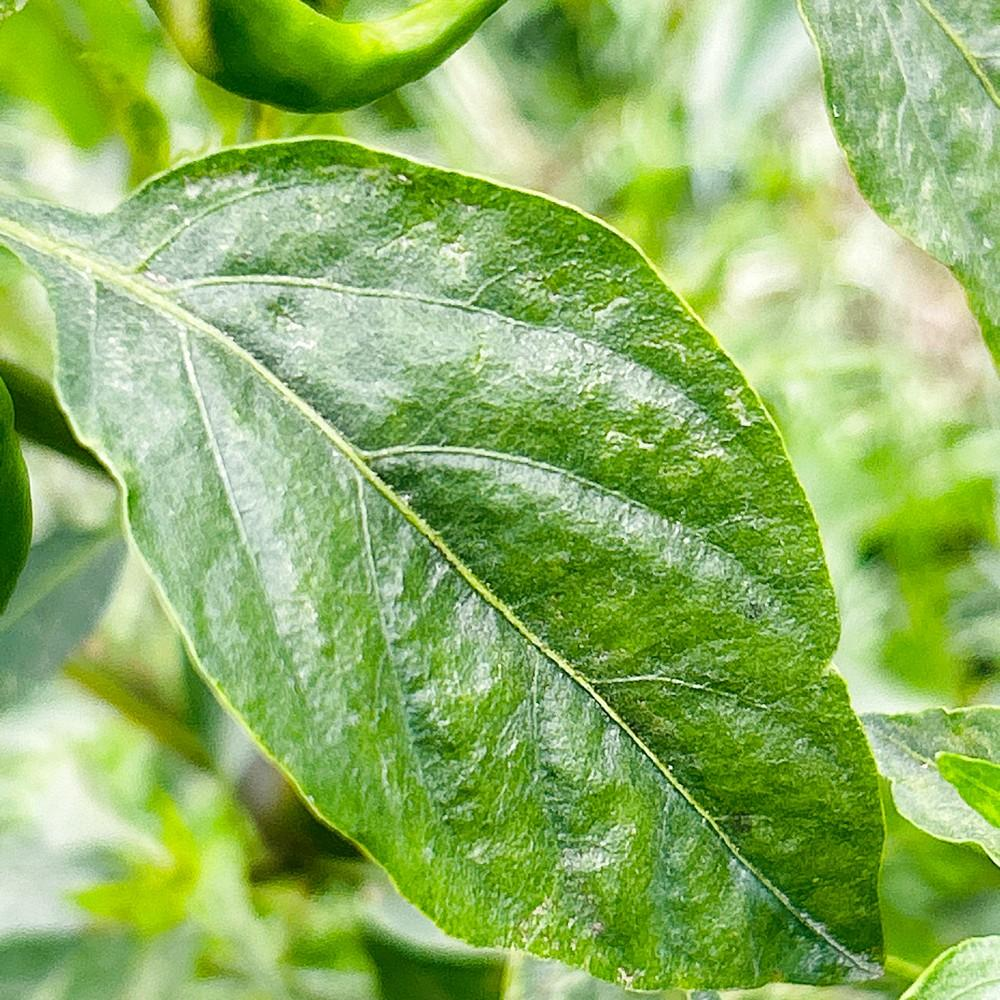Daun Cabai Sehat: (48, 133, 890, 995)
